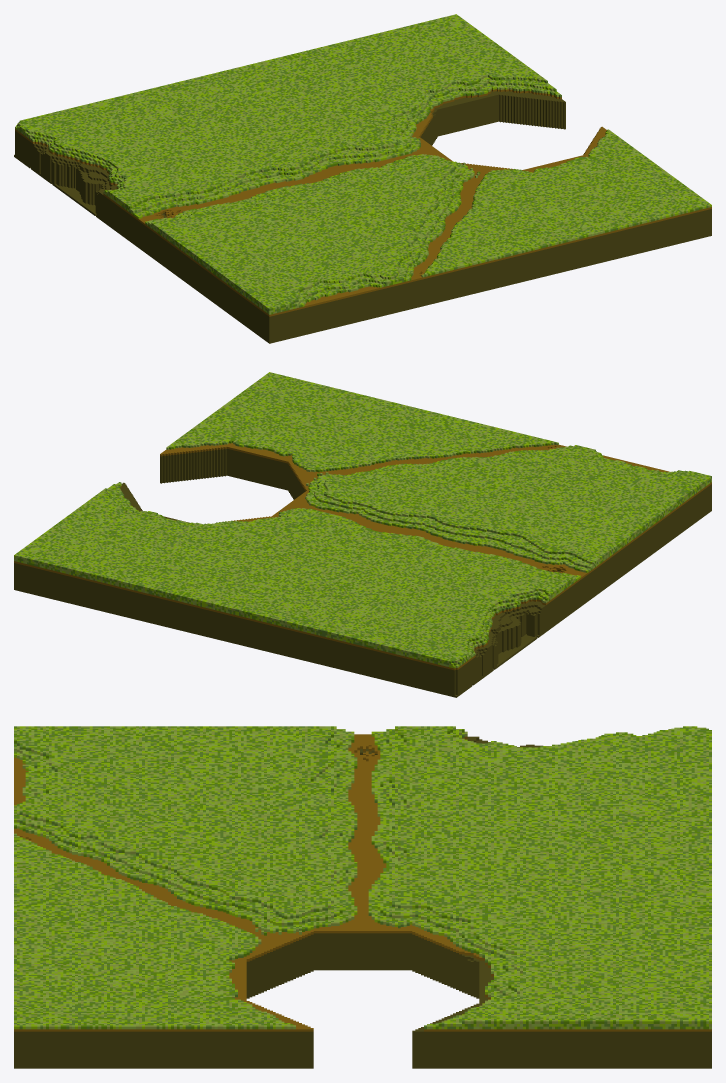
The model's file is Tab E2-0.obj.
3 renders of one model, top to bottom at view 1: azimuth 30°, elevation 25°; view 2: azimuth 150°, elevation 25°; view 3: azimuth 270°, elevation 25°, orthographic. The views are drawn at different scales.
Size of the model in its own units: 24 by 1.8 by 24.
Materials: 1 (1 with a texture image).
